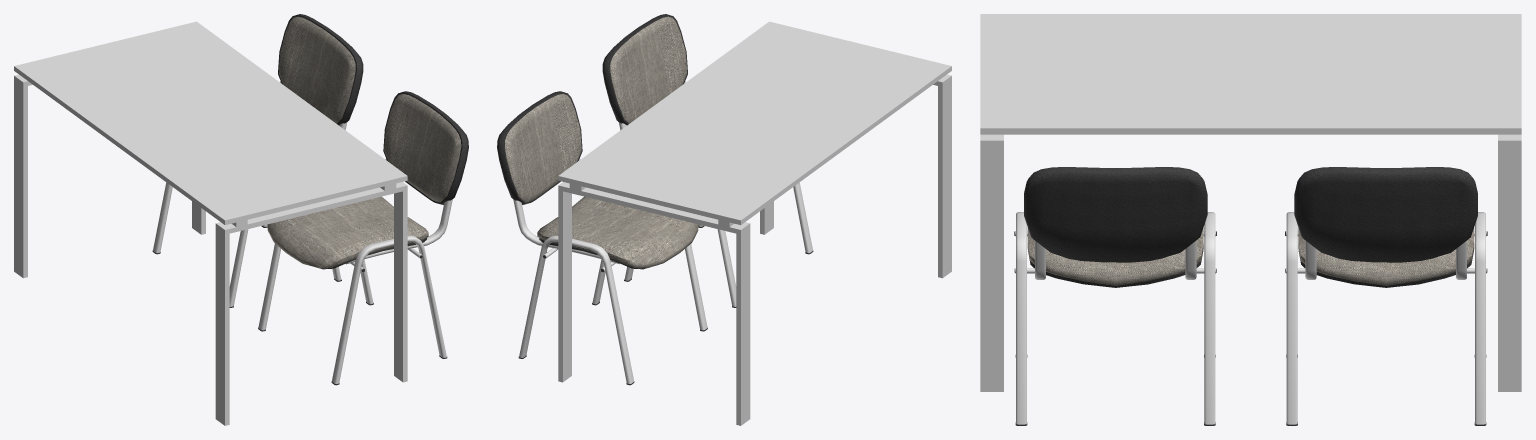
Rendered from masa.fbx.
The picture shows the model from 3 angles, left to right: view 1: azimuth 30°, elevation 25°; view 2: azimuth 150°, elevation 25°; view 3: azimuth 270°, elevation 25°; orthographic projection. The views are drawn at different scales.
Visible parts, largest first — view 1: blat, picioare, sidushka_001, spinka_001, spinka_001_tkan_0.001, BezierCurve_003, BezierCurve_003_metall_0.001, spinka, spinka_plastic3_2_0.001, BezierCurve_004; view 2: blat, picioare, sidushka_001_tkan_0.001, spinka_001_tkan_0.001, spinka_001, BezierCurve_003_metall_0.001, BezierCurve_003, spinka_plastic3_2_0.001, spinka, BezierCurve_004_metall_0.001; view 3: blat, spinka_plastic3_2_0.001, spinka, picioare, BezierCurve_003, BezierCurve_003_metall_0.001, sidushka_001, sidushka_001_tkan_0.001, BezierCurve_004, BezierCurve_004_metall_0.001, sidushka, sidushka_plastic3_2_0.001.
Boxes of the visible parts, <box> form: blat: <box>14,21,407,224</box>; picioare: <box>14,74,407,425</box>; sidushka_001: <box>267,196,428,268</box>; spinka_001: <box>384,94,461,202</box>; spinka_001_tkan_0.001: <box>279,16,355,123</box>; BezierCurve_003: <box>258,235,446,383</box>; BezierCurve_003_metall_0.001: <box>153,182,341,306</box>; spinka: <box>383,91,468,204</box>; spinka_plastic3_2_0.001: <box>278,14,363,125</box>; BezierCurve_004: <box>346,158,452,264</box>; blat: <box>558,21,951,224</box>; picioare: <box>558,74,951,425</box>; sidushka_001_tkan_0.001: <box>537,196,698,268</box>; spinka_001_tkan_0.001: <box>505,94,581,202</box>; spinka_001: <box>610,16,686,123</box>; BezierCurve_003_metall_0.001: <box>519,235,707,383</box>; BezierCurve_003: <box>624,182,812,306</box>; spinka_plastic3_2_0.001: <box>497,91,582,204</box>; spinka: <box>602,14,687,125</box>; BezierCurve_004_metall_0.001: <box>513,158,619,264</box>; blat: <box>980,14,1521,134</box>; spinka_plastic3_2_0.001: <box>1294,167,1477,262</box>; spinka: <box>1024,167,1207,262</box>; picioare: <box>980,134,1521,391</box>; BezierCurve_003: <box>1016,212,1215,424</box>; BezierCurve_003_metall_0.001: <box>1286,212,1485,424</box>; sidushka_001: <box>1027,227,1203,285</box>; sidushka_001_tkan_0.001: <box>1298,227,1474,285</box>; BezierCurve_004: <box>1035,240,1196,279</box>; BezierCurve_004_metall_0.001: <box>1305,240,1466,279</box>; sidushka: <box>1028,251,1203,287</box>; sidushka_plastic3_2_0.001: <box>1298,251,1473,287</box>.
Size of the model in its own units: 118 by 89.51 by 160.
Materials: 3 (2 with a texture image).
